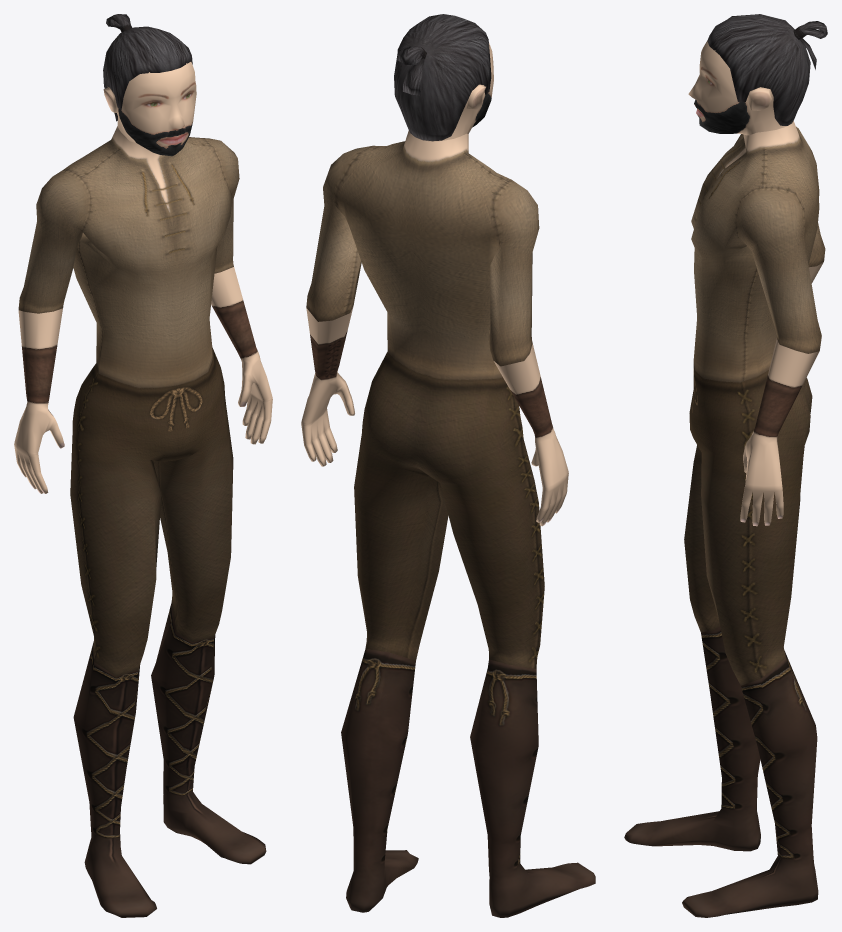
File: trader.obj
3 views of the same model, side by side, from view 1: azimuth 30°, elevation 25°; view 2: azimuth 150°, elevation 25°; view 3: azimuth 270°, elevation 25° (orthographic). The views are drawn at different scales.
Parts seen in each view (by area): view 1: human_male_light_armor_2, human_male_light_boots_2, human_male_light_gloves_3, human_male_head_2, human_male_hair_4; view 2: human_male_light_armor_2, human_male_light_boots_2, human_male_light_gloves_3, human_male_hair_4, human_male_head_2; view 3: human_male_light_armor_2, human_male_light_boots_2, human_male_hair_4, human_male_light_gloves_3, human_male_head_2.
Part boxes in pixels (left/top/right/bottom): human_male_light_armor_2: left=18, top=126, right=239, bottom=676; human_male_light_boots_2: left=73, top=603, right=266, bottom=917; human_male_light_gloves_3: left=14, top=267, right=272, bottom=493; human_male_head_2: left=103, top=62, right=196, bottom=156; human_male_hair_4: left=103, top=14, right=192, bottom=121; human_male_light_armor_2: left=306, top=130, right=544, bottom=668; human_male_light_boots_2: left=341, top=649, right=595, bottom=917; human_male_light_gloves_3: left=301, top=305, right=568, bottom=526; human_male_hair_4: left=394, top=14, right=491, bottom=141; human_male_head_2: left=416, top=43, right=493, bottom=141; human_male_light_armor_2: left=684, top=121, right=825, bottom=685; human_male_light_boots_2: left=624, top=626, right=818, bottom=917; human_male_hair_4: left=707, top=14, right=827, bottom=125; human_male_light_gloves_3: left=740, top=262, right=823, bottom=526; human_male_head_2: left=688, top=40, right=786, bottom=135.
Bounding box in the file's own units: 1.28 × 4.21 × 0.9076.
